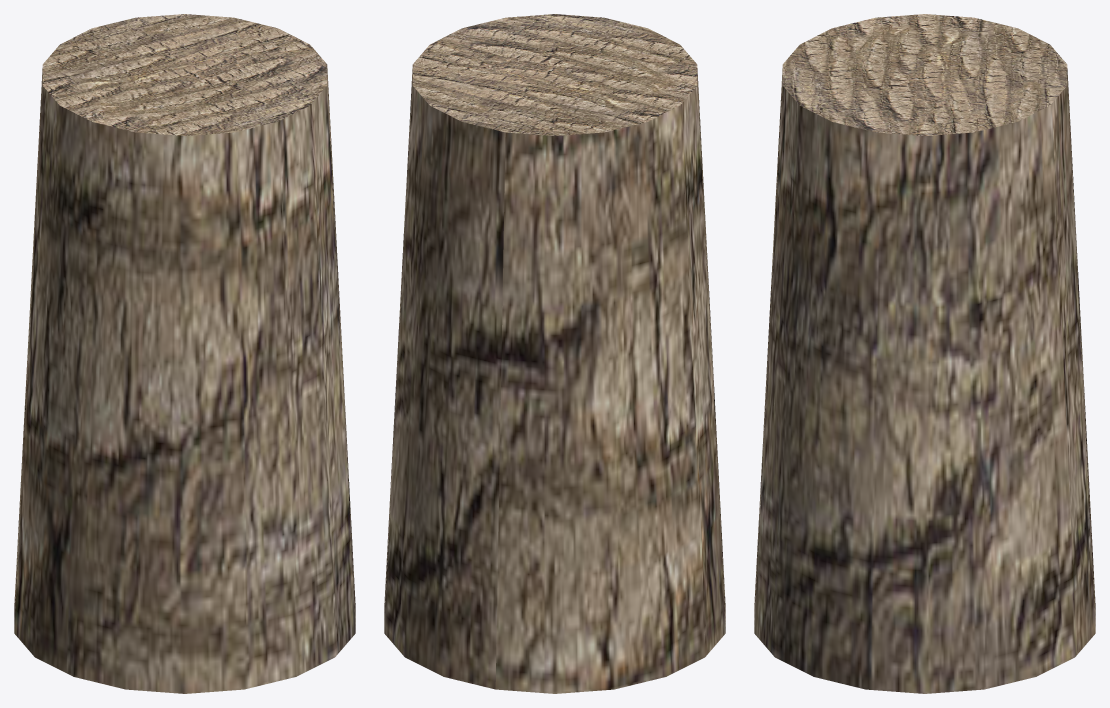
The model's file is palm3.FBX.
The picture shows the model from 3 angles, left to right: view 1: azimuth 30°, elevation 25°; view 2: azimuth 150°, elevation 25°; view 3: azimuth 270°, elevation 25°; orthographic projection.
Visible parts, largest first — view 1: palm3; view 2: palm3; view 3: palm3.
Boxes of the visible parts, left/top/right/bottom form: palm3: left=14, top=14, right=355, bottom=693; palm3: left=384, top=14, right=725, bottom=693; palm3: left=754, top=14, right=1095, bottom=693.
Size of the model in its own units: 11.52 by 20 by 11.34.
